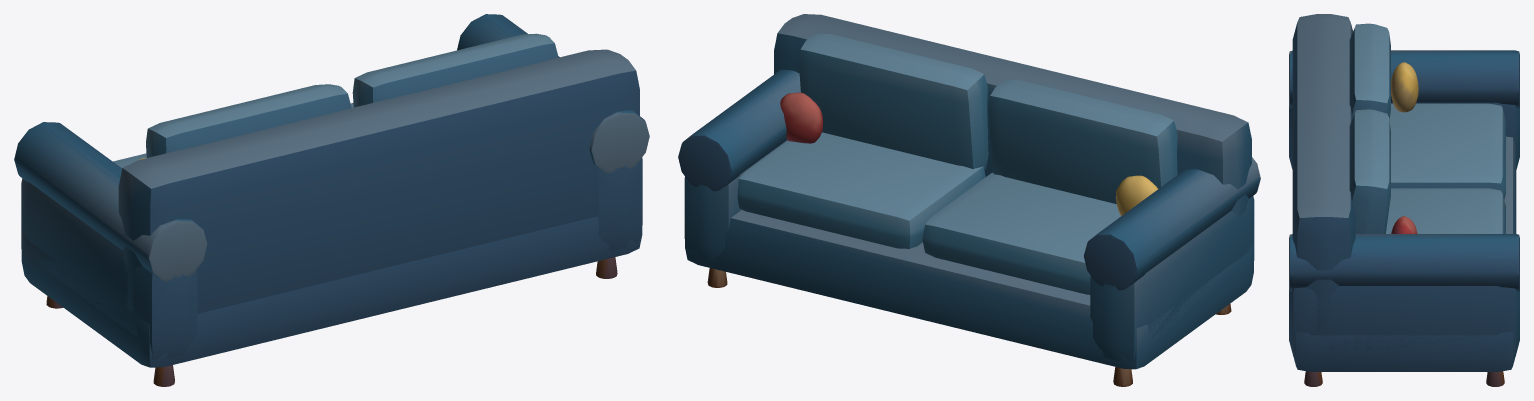
The model's file is Couch.fbx.
3 views of the same model, side by side, from view 1: azimuth 30°, elevation 25°; view 2: azimuth 150°, elevation 25°; view 3: azimuth 270°, elevation 25° (orthographic). The views are drawn at different scales.
Visible parts, largest first — view 1: SM_Prop_Couch; view 2: SM_Prop_Couch; view 3: SM_Prop_Couch.
Boxes of the visible parts, left/top/right/bottom form: SM_Prop_Couch: left=14, top=14, right=649, bottom=386; SM_Prop_Couch: left=678, top=14, right=1260, bottom=386; SM_Prop_Couch: left=1289, top=14, right=1519, bottom=386.
Bounding box in the file's own units: 7.03 × 3 × 3.3.
